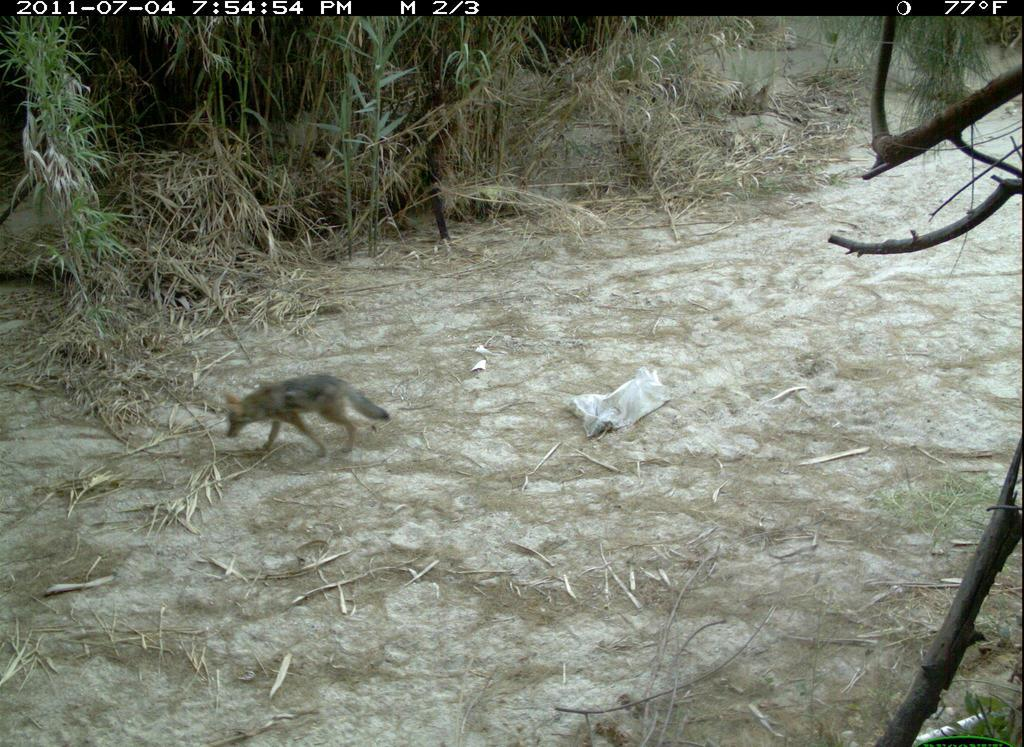coyote: (204, 350, 400, 492)
